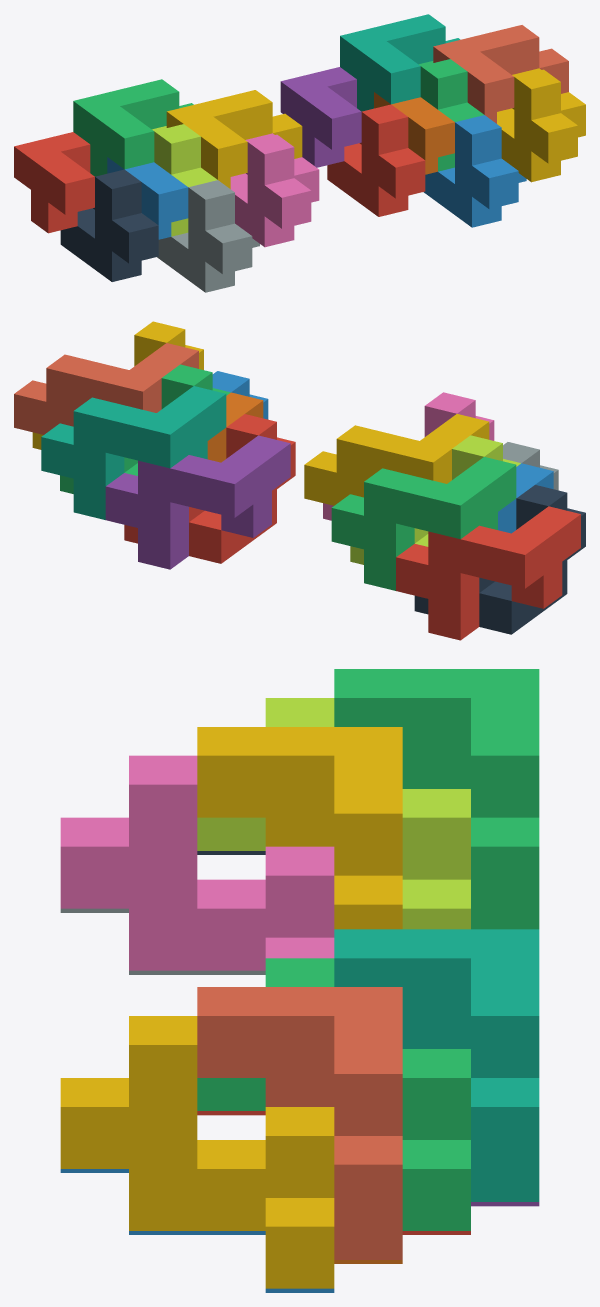
File: tiling.obj
3 renders of one model, top to bottom at view 1: azimuth 30°, elevation 25°; view 2: azimuth 150°, elevation 25°; view 3: azimuth 270°, elevation 25°, orthographic. The views are drawn at different scales.
Visible parts, largest first — view 1: copy_2_domain_4, copy_2_domain_8, copy_2_domain_5, copy_2_domain_1, copy_1_domain_3, copy_1_domain_7, copy_2_domain_2, copy_2_domain_6, copy_1_domain_4, copy_1_domain_8, copy_1_domain_1, copy_1_domain_5 (+4 smaller); view 2: copy_1_domain_1, copy_1_domain_5, copy_1_domain_7, copy_1_domain_3, copy_1_domain_4, copy_1_domain_8, copy_2_domain_1, copy_2_domain_5, copy_2_domain_7, copy_2_domain_3, copy_2_domain_4, copy_2_domain_8 (+4 smaller); view 3: copy_2_domain_8, copy_2_domain_4, copy_1_domain_8, copy_1_domain_7, copy_1_domain_3, copy_1_domain_4, copy_2_domain_7, copy_2_domain_3, copy_2_domain_6, copy_2_domain_2.
Part boxes in pixels (<box>): copy_2_domain_4: <box>230,133,319,247</box>; copy_2_domain_8: <box>497,68,585,182</box>; copy_2_domain_5: <box>327,104,425,216</box>; copy_2_domain_1: <box>60,169,158,281</box>; copy_1_domain_3: <box>73,79,193,176</box>; copy_1_domain_7: <box>340,14,460,111</box>; copy_2_domain_2: <box>157,180,259,292</box>; copy_2_domain_6: <box>423,115,526,227</box>; copy_1_domain_4: <box>166,90,302,188</box>; copy_1_domain_8: <box>433,25,568,123</box>; copy_1_domain_1: <box>14,132,94,233</box>; copy_1_domain_5: <box>280,67,361,167</box>; copy_1_domain_1: <box>396,506,580,640</box>; copy_1_domain_5: <box>105,435,290,569</box>; copy_1_domain_7: <box>41,386,226,519</box>; copy_1_domain_3: <box>331,457,516,590</box>; copy_1_domain_4: <box>304,414,489,505</box>; copy_1_domain_8: <box>14,343,198,434</box>; copy_2_domain_1: <box>414,485,585,634</box>; copy_2_domain_5: <box>124,414,295,563</box>; copy_2_domain_7: <box>60,364,230,493</box>; copy_2_domain_3: <box>350,435,520,564</box>; copy_2_domain_4: <box>323,392,494,520</box>; copy_2_domain_8: <box>32,321,203,449</box>; copy_2_domain_8: <box>60,1016,334,1288</box>; copy_2_domain_4: <box>60,755,334,970</box>; copy_1_domain_8: <box>197,987,402,1259</box>; copy_1_domain_7: <box>334,929,539,1201</box>; copy_1_domain_3: <box>334,669,539,929</box>; copy_1_domain_4: <box>197,727,402,929</box>; copy_2_domain_7: <box>197,958,470,1230</box>; copy_2_domain_3: <box>197,698,470,929</box>; copy_2_domain_6: <box>60,1169,334,1292</box>; copy_2_domain_2: <box>60,908,265,974</box>.
Size of the model in its own units: 17 by 4 by 7.
